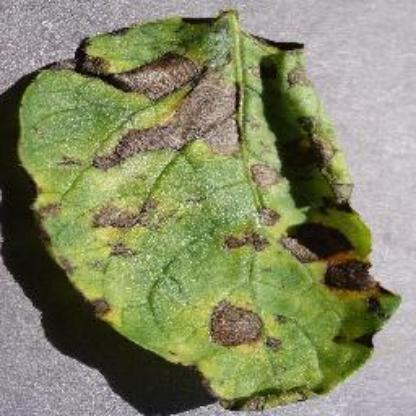Early-Blight: (15, 2, 416, 416)
